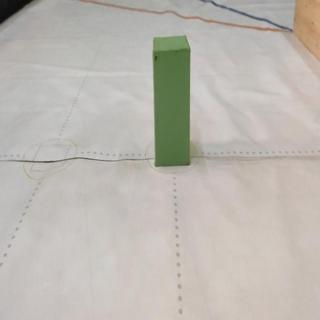greenbox: (152, 36, 191, 168)
